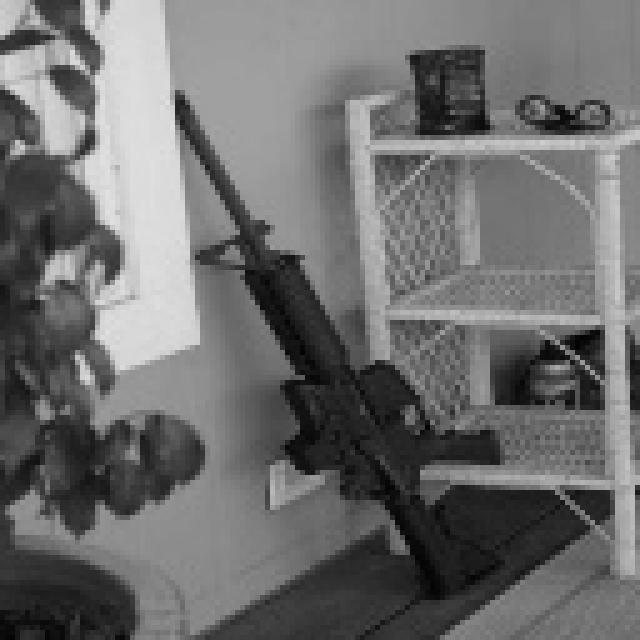Rifle: (0, 0, 519, 612)
